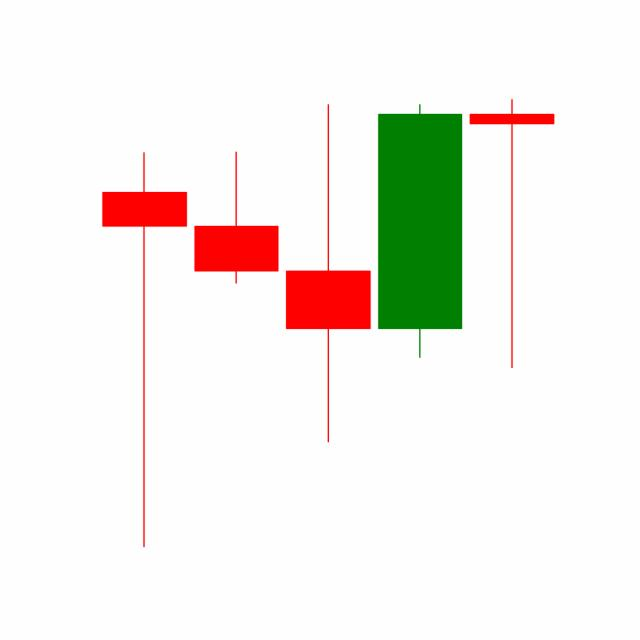Marubozu: (373, 101, 467, 361)
